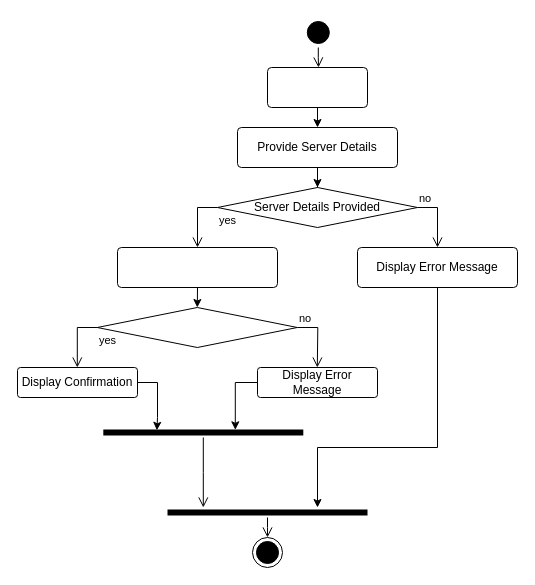
Image size: 535x585. Some labels were removed from this diagram. The shapes that lost their labels are listed below. From the top down, each one's centre as x and y in pixels, then its label:
point 317,87: Create Server
point 197,267: Insert server details in database
point 196,327: Insertion Successsfull
